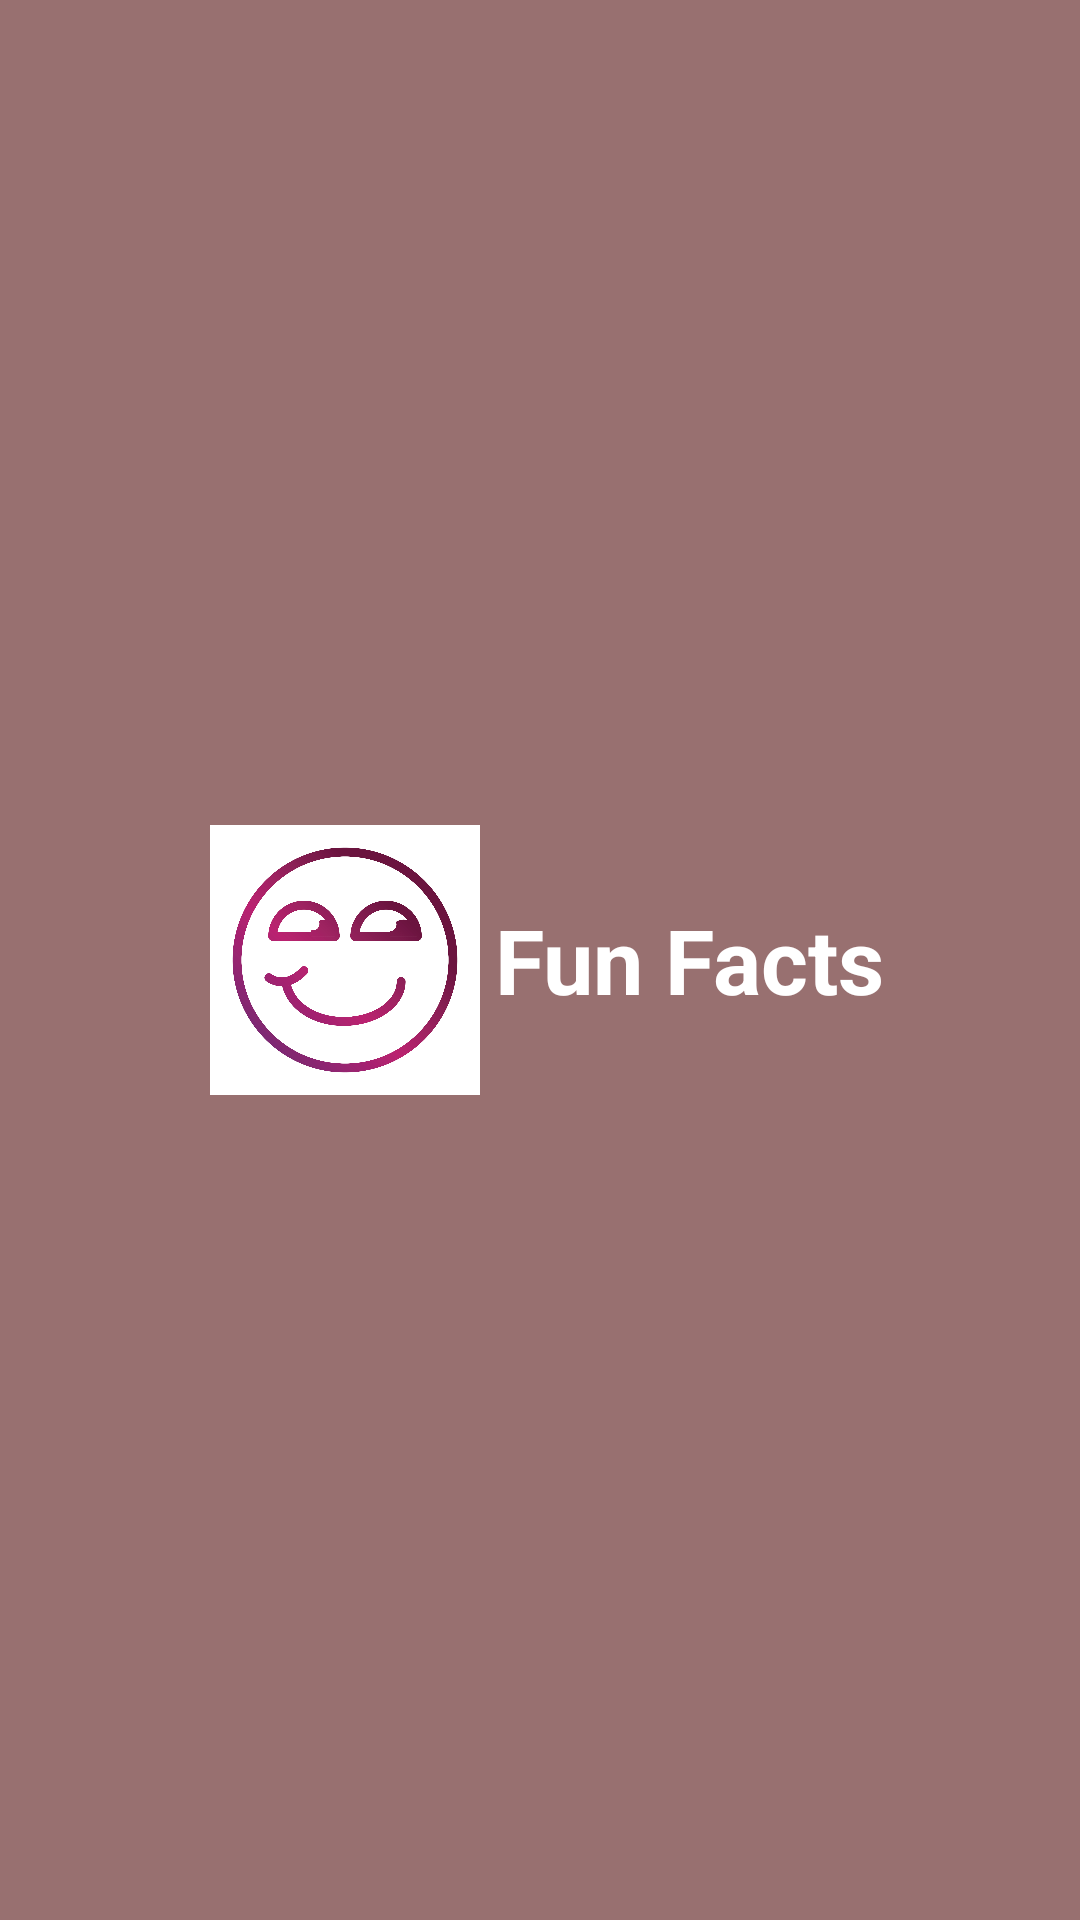

Named icons in this screenshot (1080w x 1920h) and their bounding boxes, [x1,y1,x2,y2]:
funnyicons resized: [210,825,480,1095]
